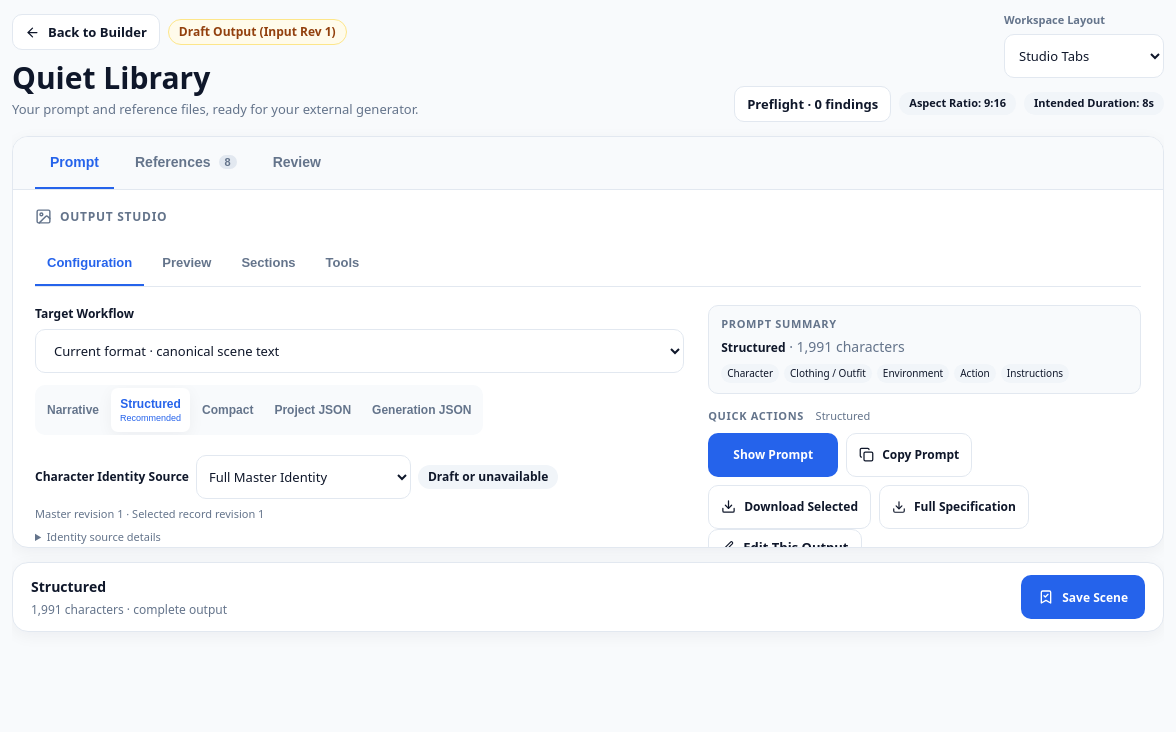
Scenario: Prompt Output studio workspace › keeps the existing manual editor reachable in Studio Tools
Expected: the heading "Quiet Library" is shown, [12,57,210,98]
Step 1. Select "Studio Tabs" in the dropdown labelled "Workspace Layout" → (1084, 56), box [1004,34,1164,78]
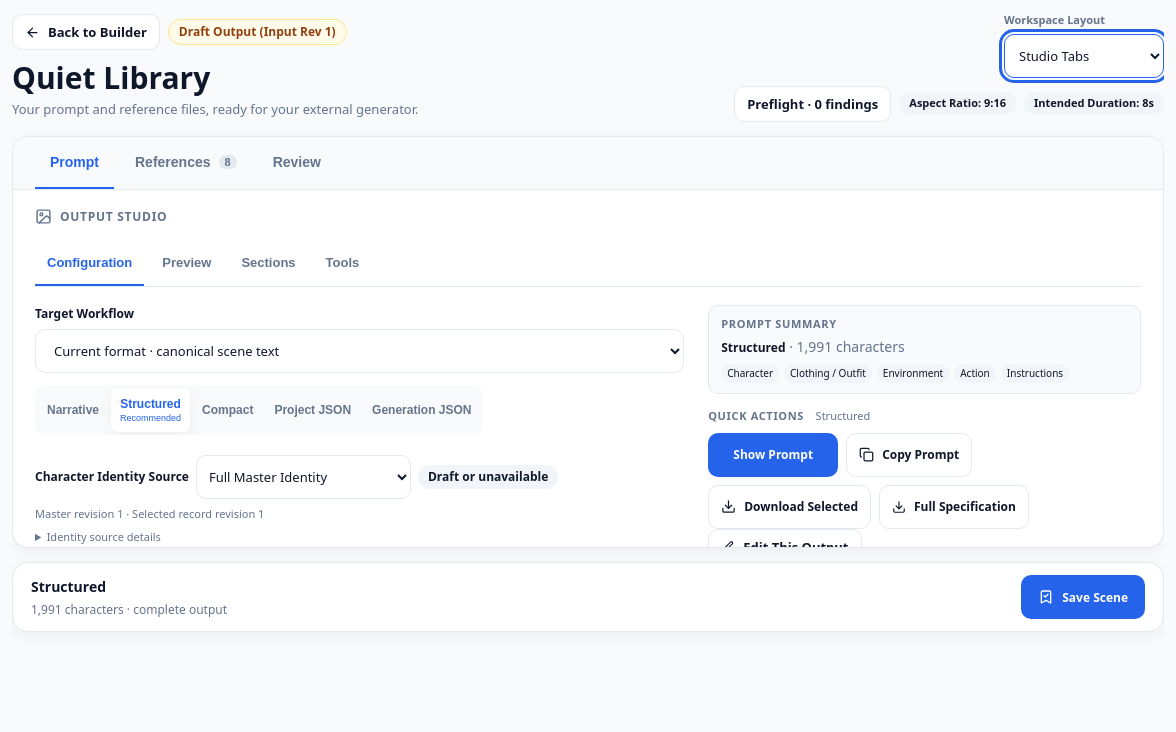
Step 2. Click the tab "Tools" → (342, 264), box [314,242,371,286]
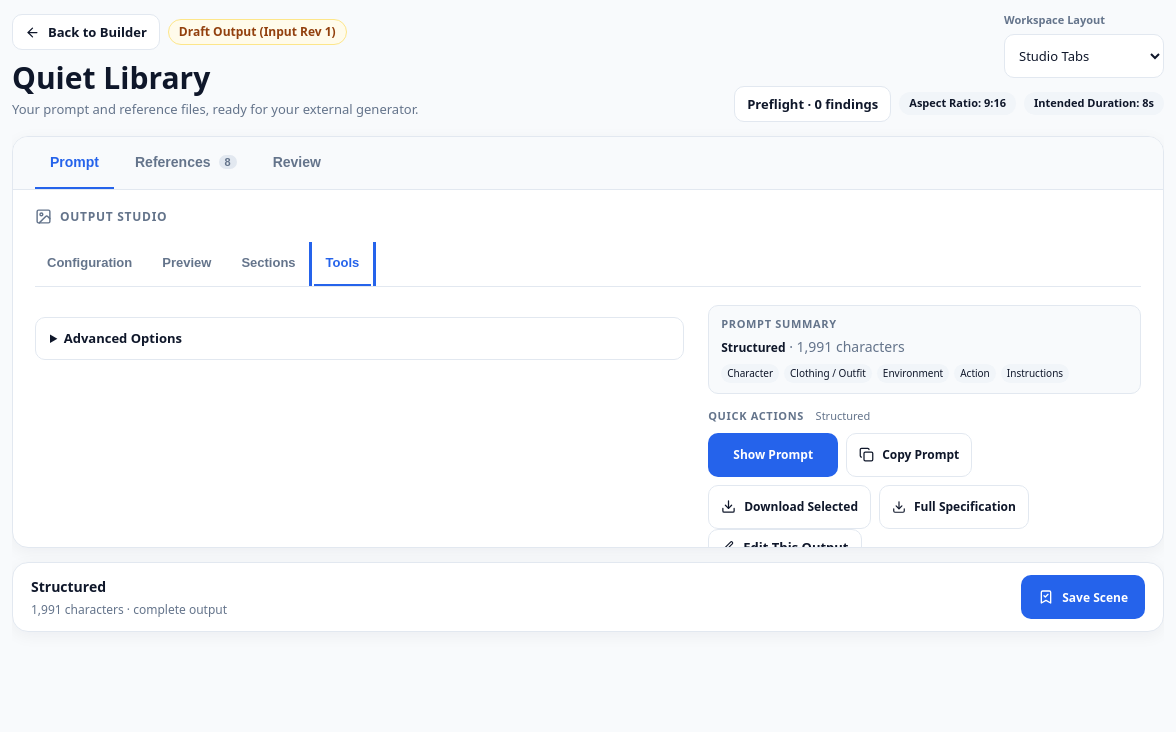
Step 3. Click the button "Edit This Output" → (785, 546), box [708,528,862,564]
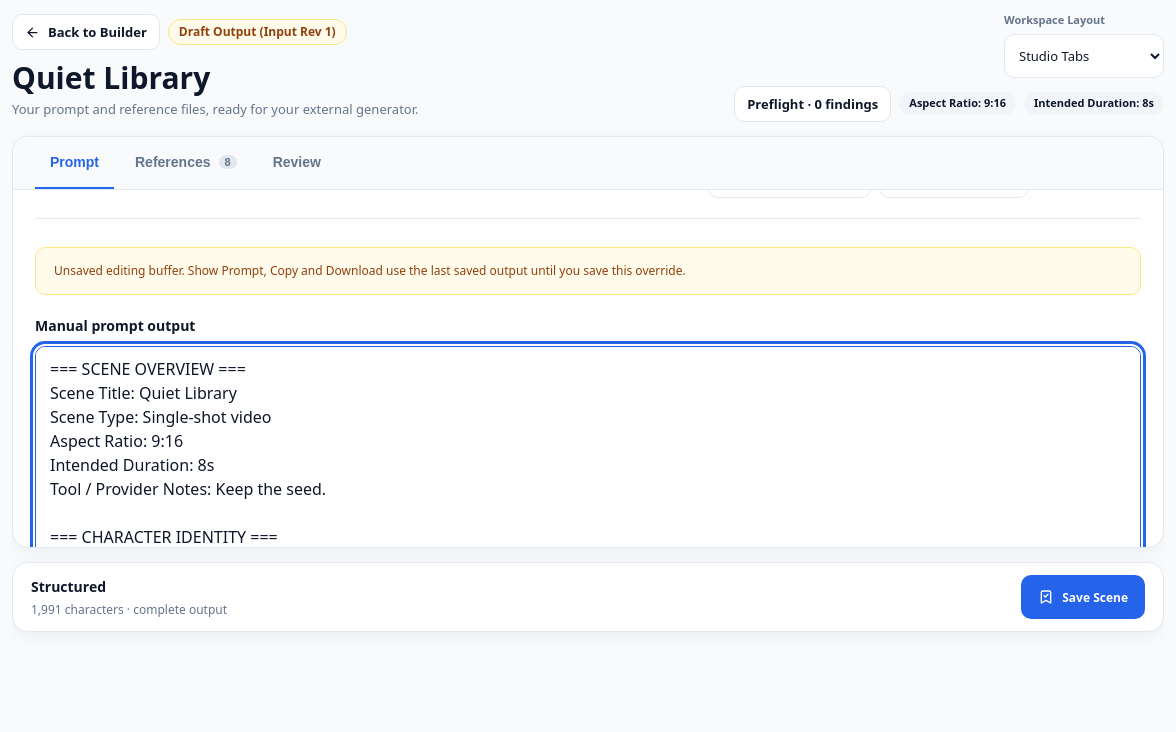
Expected: the text box labelled "Manual prompt output" is shown, [35,346,1141,547]
